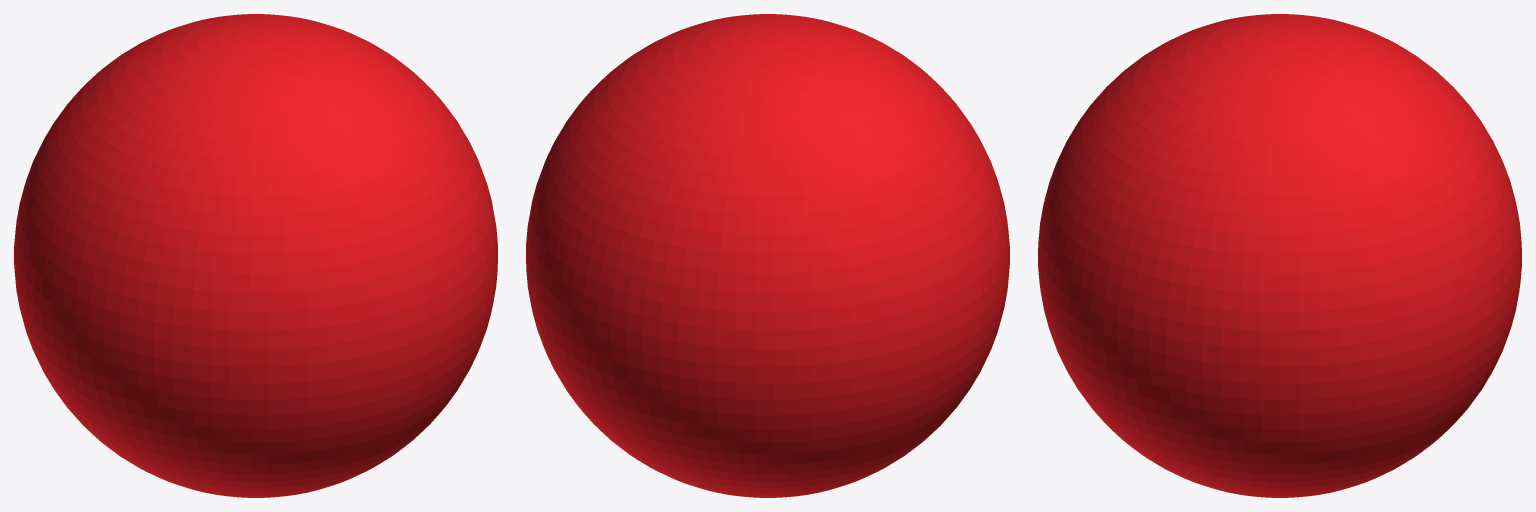
3 views of the same model, side by side, from view 1: azimuth 30°, elevation 25°; view 2: azimuth 150°, elevation 25°; view 3: azimuth 270°, elevation 25° (orthographic).
Parts seen in each view (by area): view 1: node_id3; view 2: node_id3; view 3: node_id3.
Part boxes in pixels (box(x1,y1,x2,y2)): node_id3: box(14, 14, 497, 497); node_id3: box(526, 14, 1009, 497); node_id3: box(1038, 14, 1521, 497).
Size of the model in its own units: 0.5114 by 0.512 by 0.5115.
Materials: 1 (1 with a texture image).
